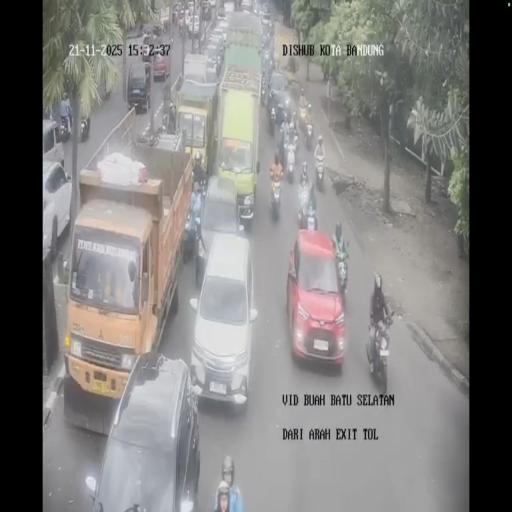3: (64, 136, 193, 414), (173, 68, 219, 178), (220, 10, 264, 86), (92, 52, 114, 102)
car: (286, 230, 345, 368), (196, 174, 242, 268), (41, 159, 73, 259), (126, 61, 151, 113), (42, 118, 65, 174), (204, 42, 225, 80), (151, 49, 169, 81), (142, 34, 154, 63), (185, 14, 200, 37), (216, 17, 230, 39), (217, 1, 227, 18), (240, 0, 253, 12), (142, 24, 153, 38), (261, 12, 271, 26), (187, 1, 194, 18), (262, 2, 270, 14), (208, 0, 216, 9)
truck: (366, 309, 392, 391), (269, 168, 283, 220), (335, 251, 349, 296), (297, 182, 311, 226), (286, 144, 298, 183), (275, 125, 287, 162), (314, 150, 325, 187), (286, 117, 298, 150), (261, 70, 271, 106), (268, 103, 278, 135), (304, 118, 314, 150), (60, 114, 70, 141), (80, 115, 89, 142), (179, 16, 186, 37), (162, 18, 170, 33)
